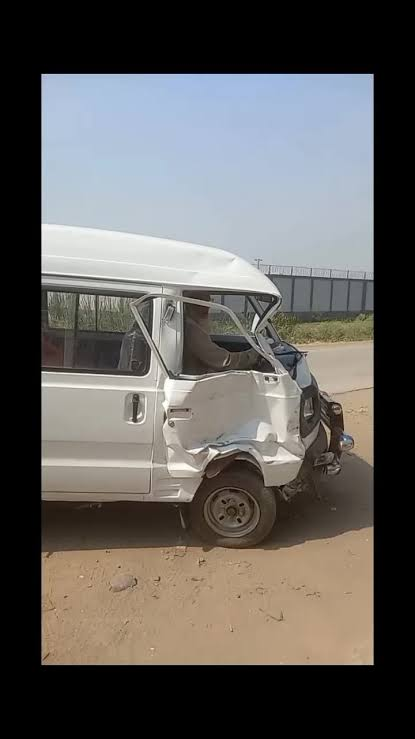quaterpanel-dent: (156, 375, 292, 498)
